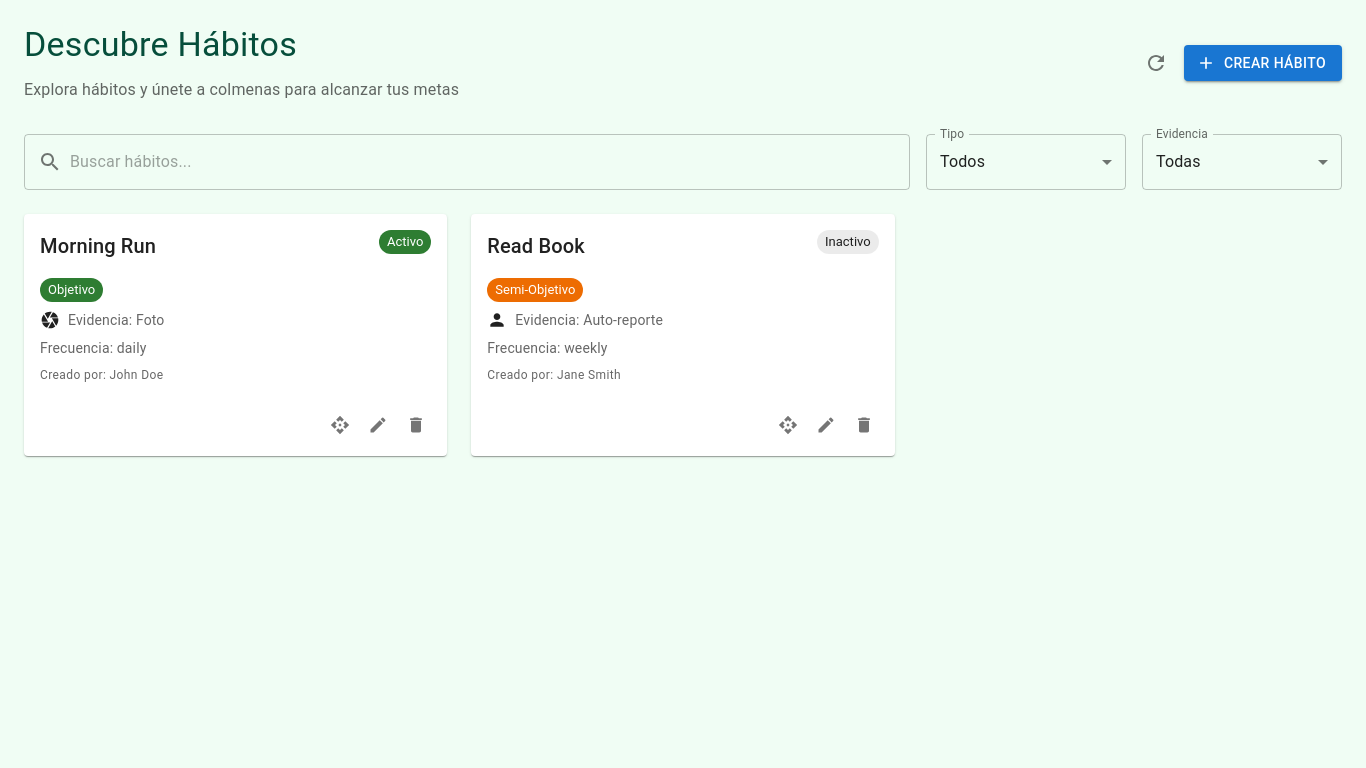
Test: HabitsPage › Edit Habit › should open edit modal when edit button is clicked
The image size is (1366, 768).
Click the button with test id "EditIcon" at [378, 425], box x1=363 y1=410 x2=393 y2=440
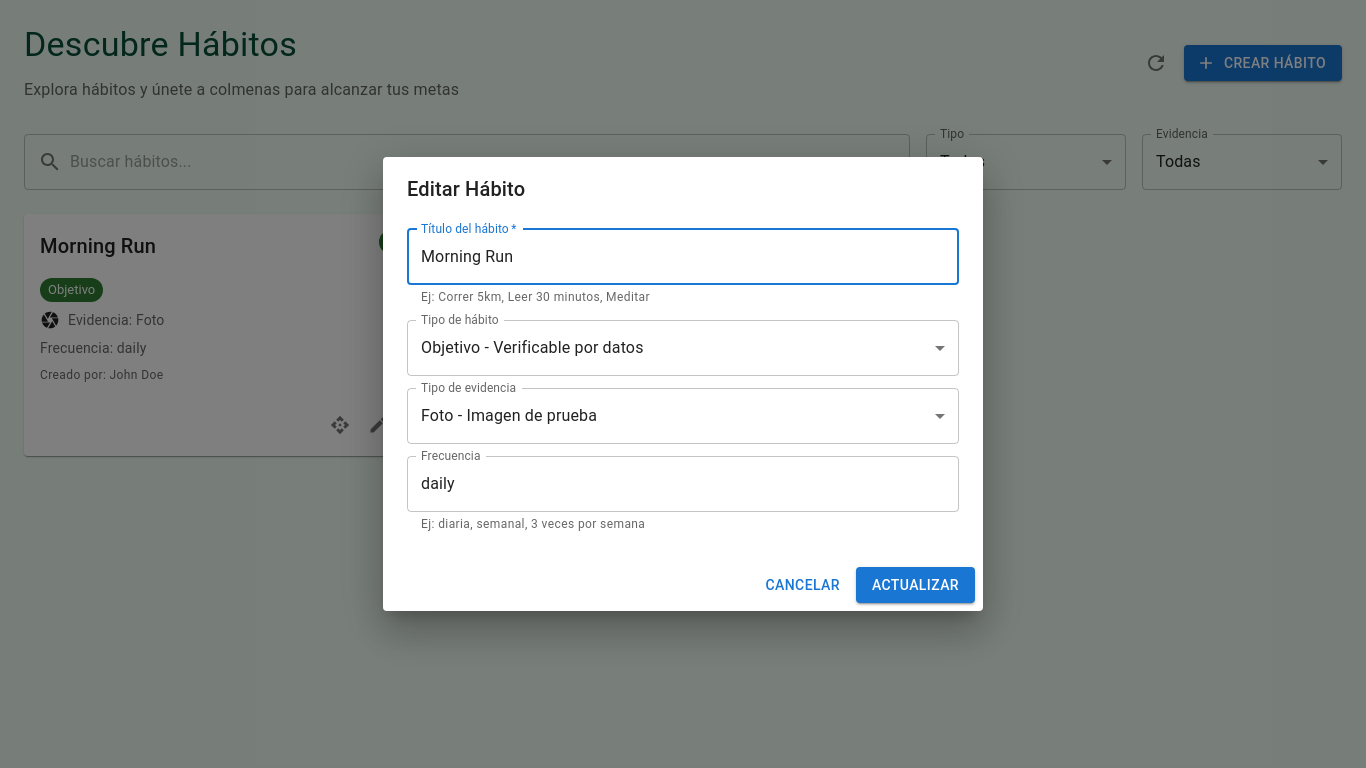
Check: the heading "Editar Hábito" is shown, box x1=407 y1=177 x2=525 y2=201
